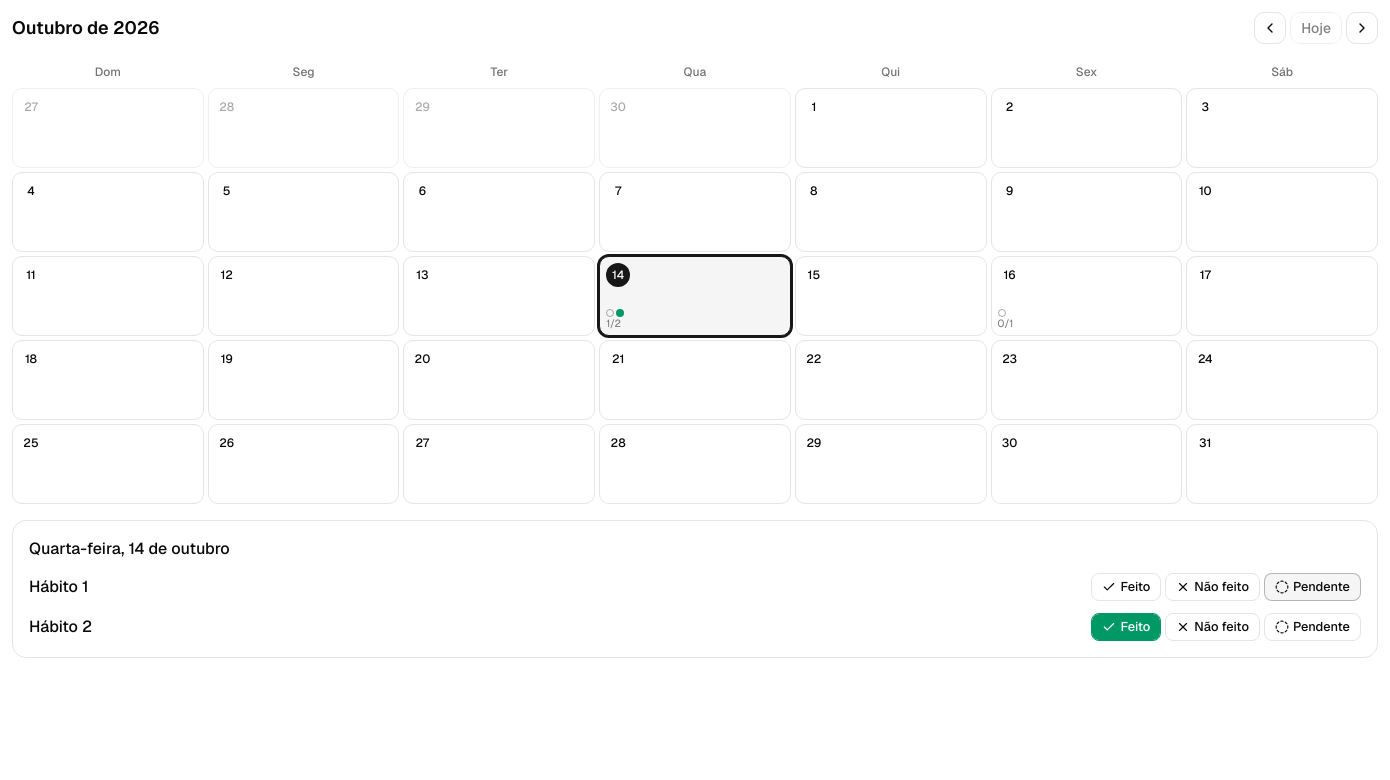
Test: HabitCalendar › selecting a dimmed day of a neighbouring month keeps the month
Click the button named "30 de setembro" at (695, 128), box [599,88,791,168]
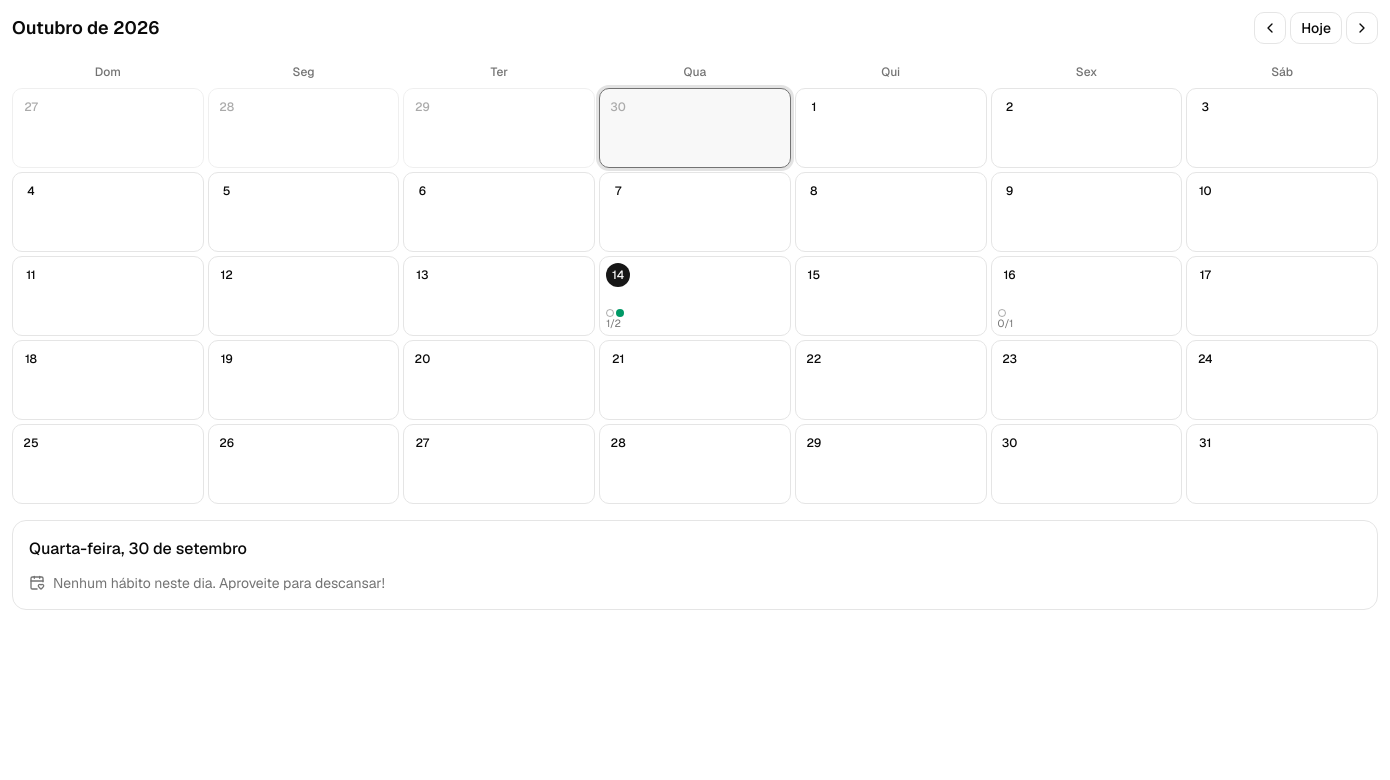
expect the heading "outubro de 2026" is shown: met, box [12,14,159,42]
expect the heading "quarta-feira, 30 de setembro" is shown: met, box [29,538,247,559]
